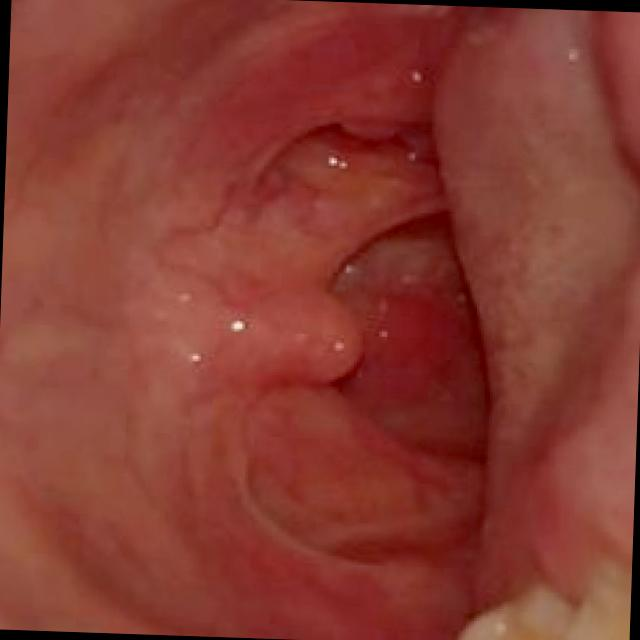Non Pharyngitis: (230, 398, 488, 614), (211, 82, 441, 298)
